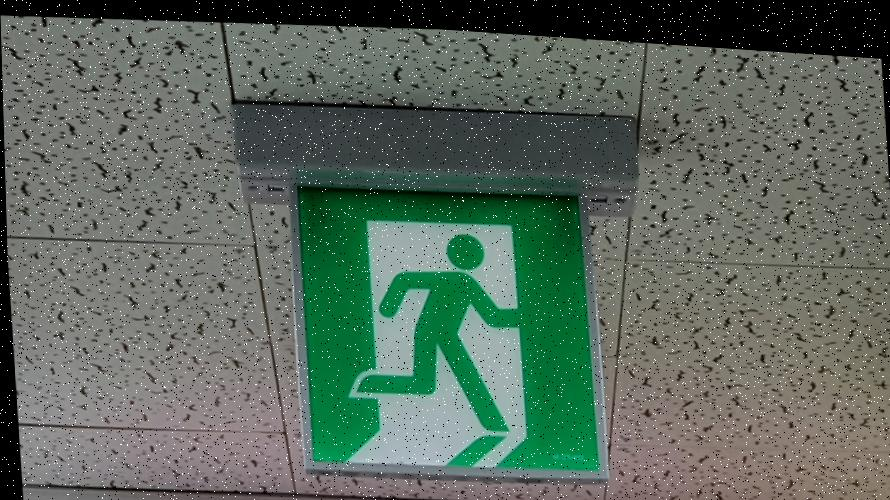emergency_exit: (292, 176, 609, 482)
